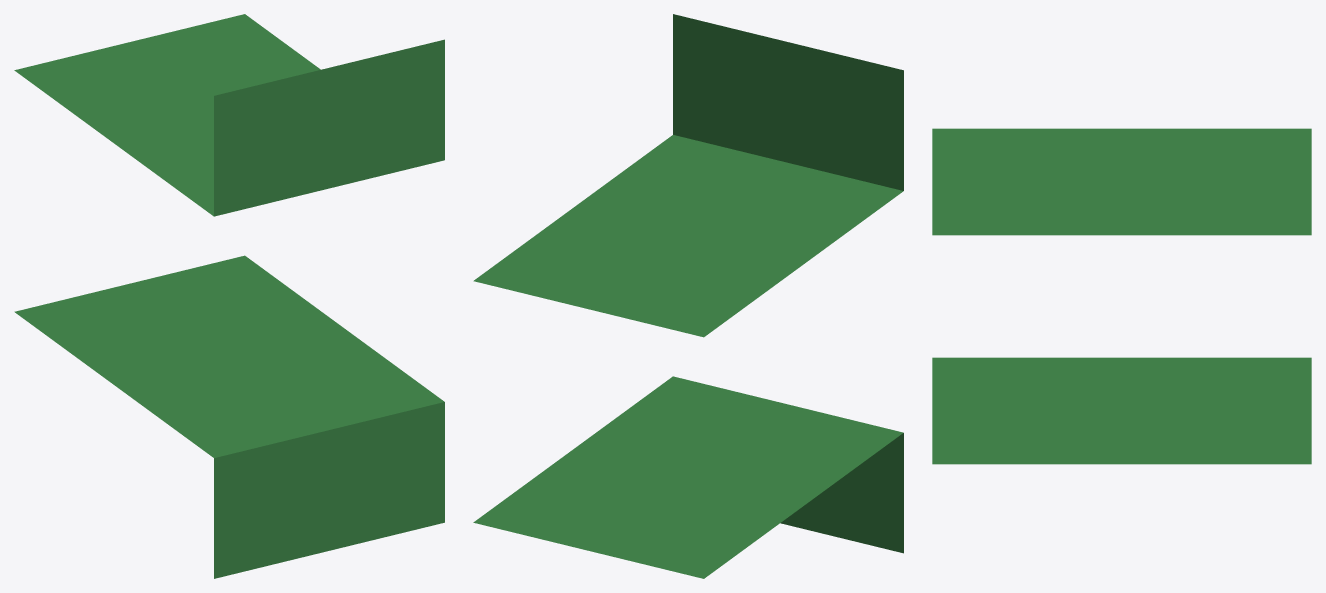
The model's file is Tile05.glb.
The picture shows the model from 3 angles, left to right: view 1: azimuth 30°, elevation 25°; view 2: azimuth 150°, elevation 25°; view 3: azimuth 270°, elevation 25°; orthographic projection. The views are drawn at different scales.
Parts seen in each view (by area): view 1: 05; view 2: 05; view 3: 05.
Part boxes in pixels (bbox=[...]): 05: bbox=[14, 14, 444, 578]; 05: bbox=[473, 14, 903, 578]; 05: bbox=[932, 128, 1311, 464].
Size of the model in its own units: 2 by 4 by 3.
1 material, 1 textured.
